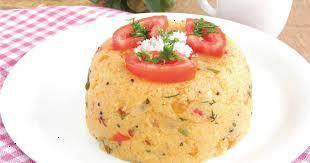upma: (93, 15, 255, 157)
